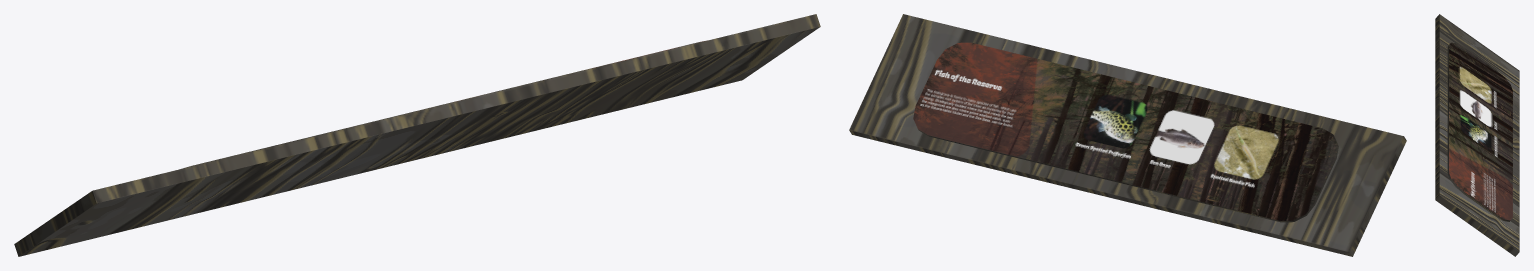
The model's file is FishOfTheReserve.fbx.
The picture shows the model from 3 angles, left to right: view 1: azimuth 30°, elevation 25°; view 2: azimuth 150°, elevation 25°; view 3: azimuth 270°, elevation 25°; orthographic projection. The views are drawn at different scales.
Visible parts, largest first — view 1: FishOfTheReserve; view 2: FishOfTheReserve; view 3: FishOfTheReserve.
Boxes of the visible parts, bbox=[...] form: FishOfTheReserve: bbox=[14, 14, 820, 256]; FishOfTheReserve: bbox=[849, 14, 1406, 256]; FishOfTheReserve: bbox=[1435, 14, 1519, 256].
Bounding box in the file's own units: 1.02 × 0.1623 × 0.2011.
1 material, 1 textured.
